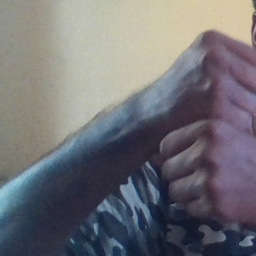G: (157, 29, 256, 221)
